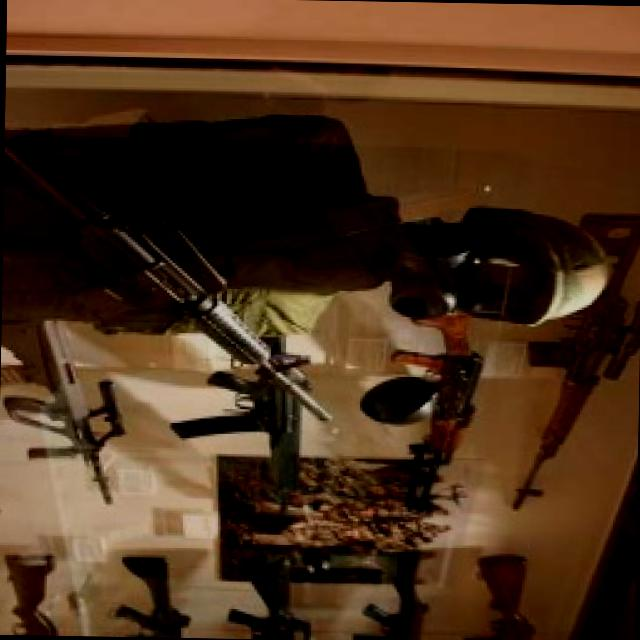long weapon: (2, 96, 347, 473), (517, 186, 639, 524), (380, 266, 501, 524), (1, 302, 132, 516), (226, 544, 332, 640), (124, 540, 196, 636)
